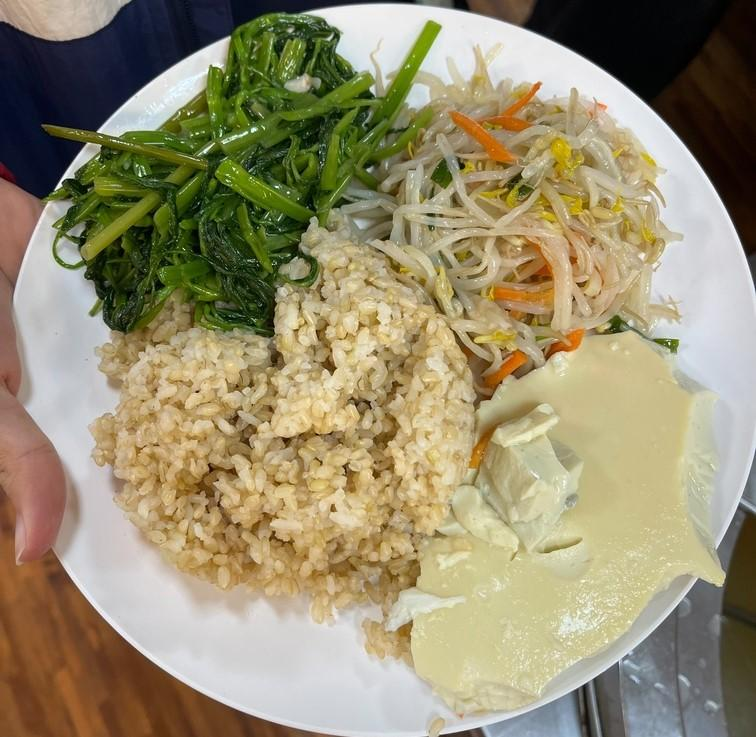big fried chicken leg: (8, 10, 755, 737)
box: (95, 237, 480, 602)
braised fish fillet: (394, 330, 710, 718), (53, 15, 394, 327), (382, 85, 664, 366)
